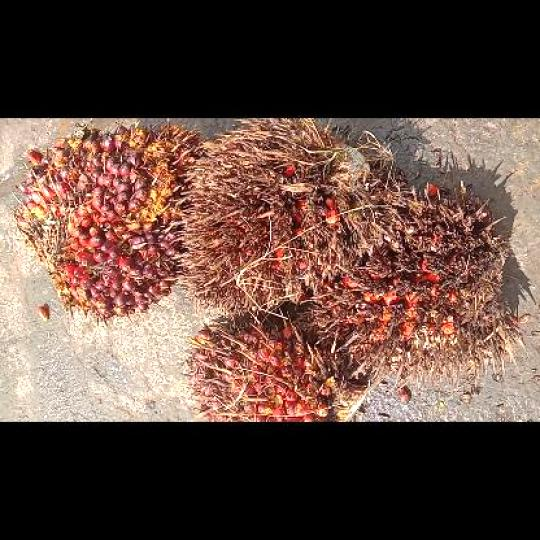masak: (8, 121, 205, 326), (183, 312, 370, 421)
terlalu masak: (294, 182, 526, 392), (170, 118, 392, 316)
